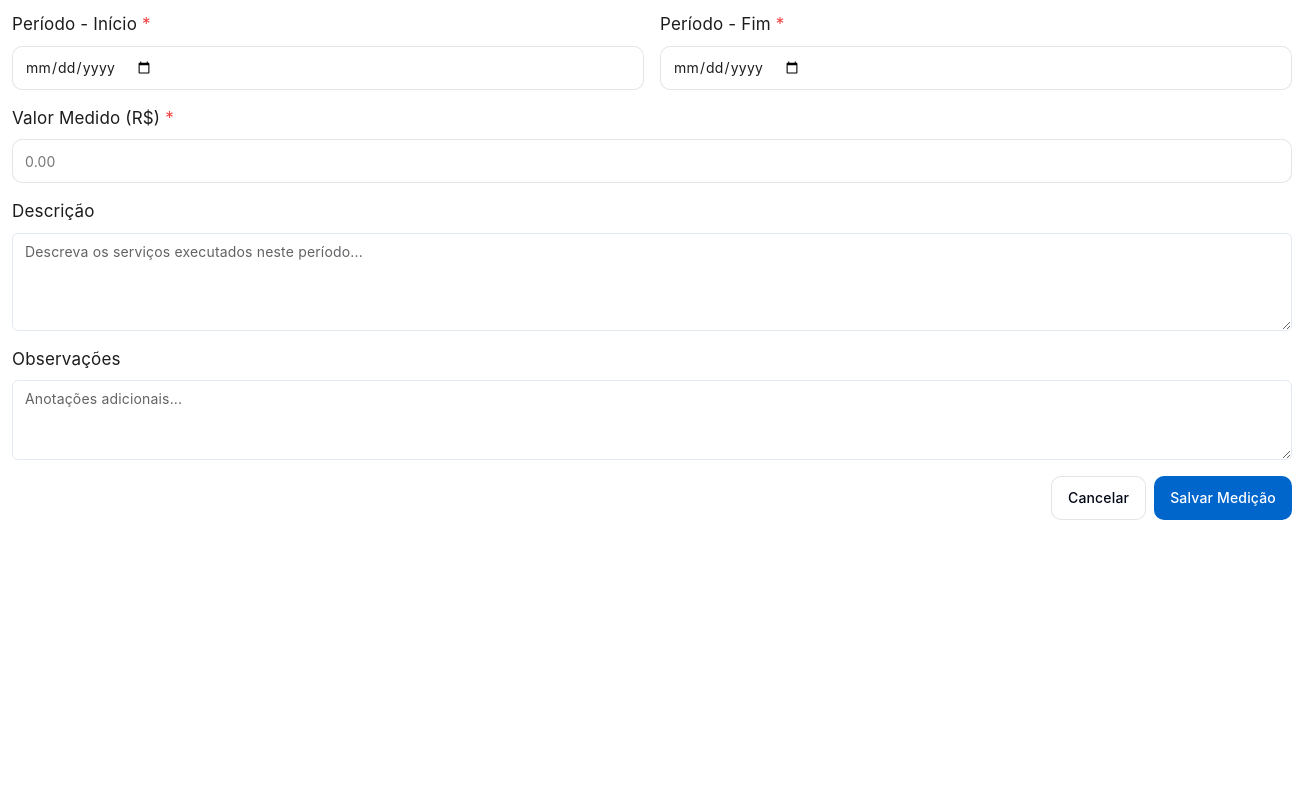
Test: MedicaoForm › should validate valor medido format
The width and height of the screenshot is (1304, 812).
Type "invalid" into the field labelled "Valor Medido (R$) *".
click(652, 161); type("invalid")  # box [12, 139, 1292, 183]
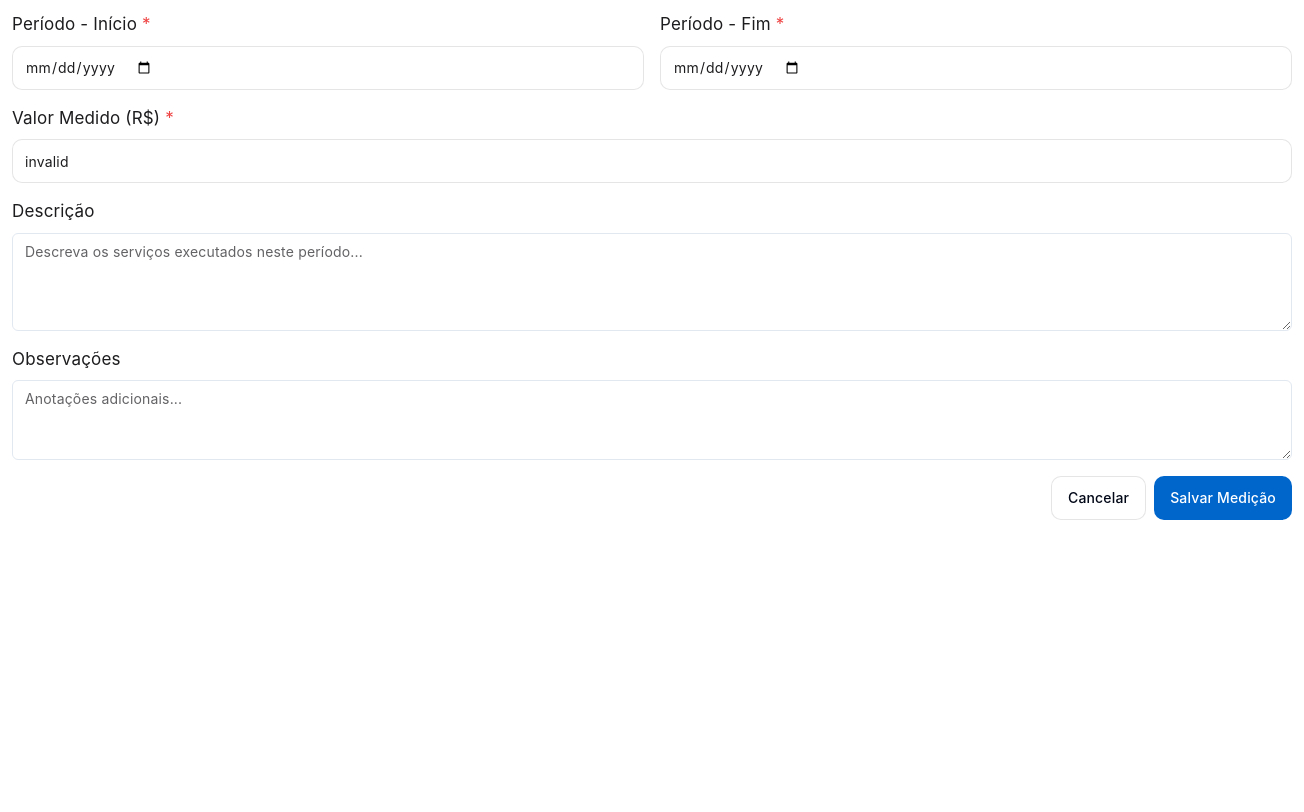
Click the button "Salvar Medição".
click(1223, 498)  # box [1154, 476, 1292, 520]
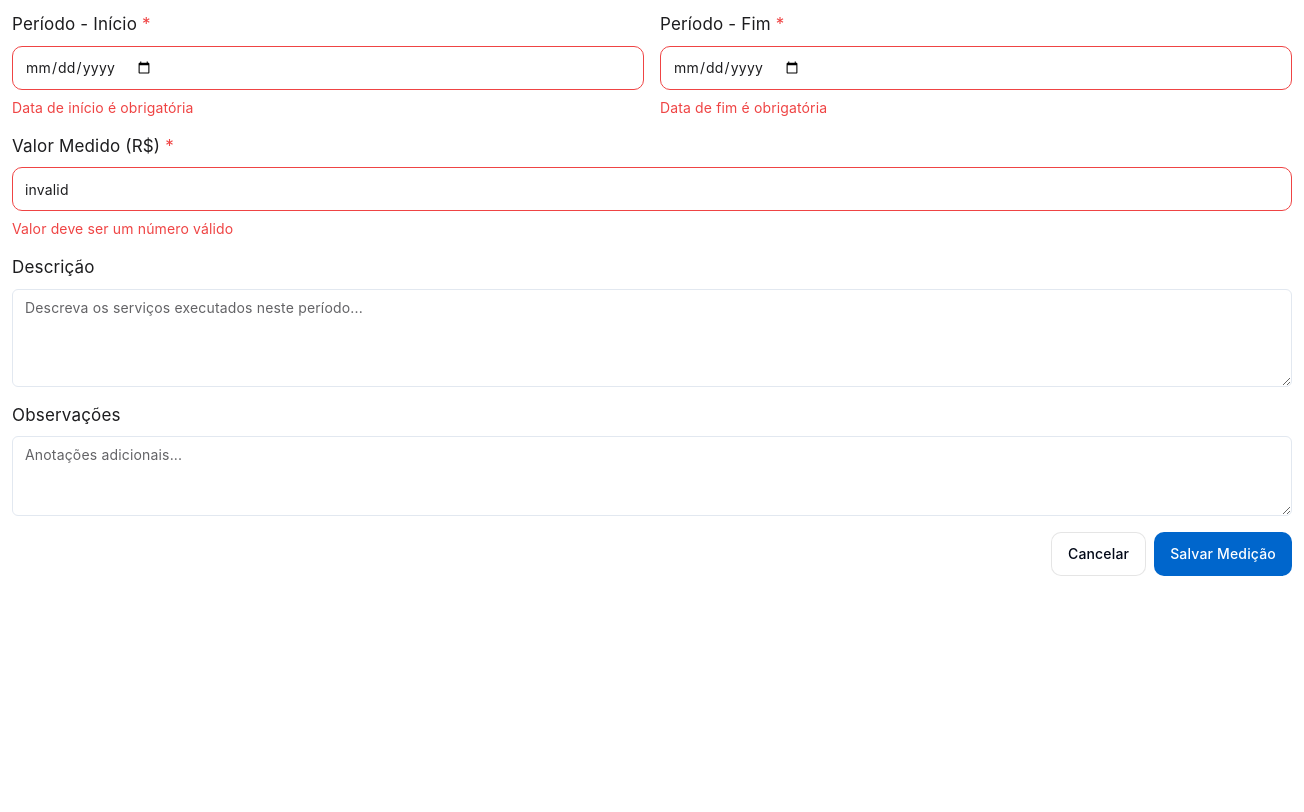
Result: the text "Valor deve ser um número válido" is shown at [12, 220, 233, 237]
